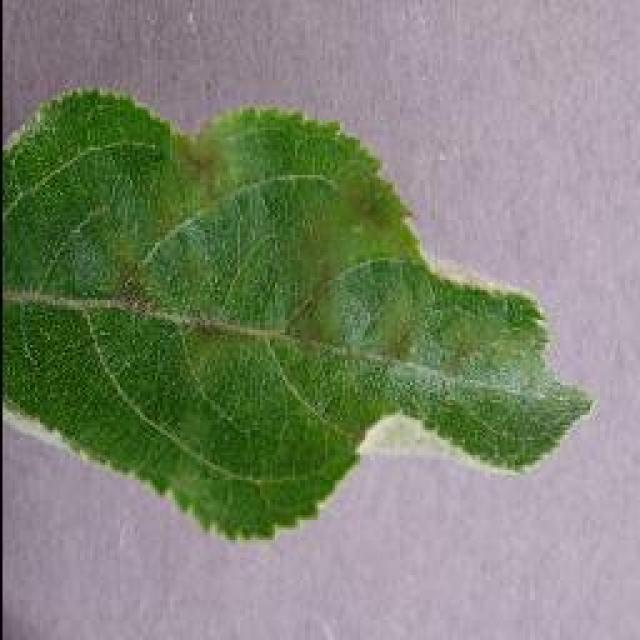apple scab disease: (0, 82, 595, 542)
